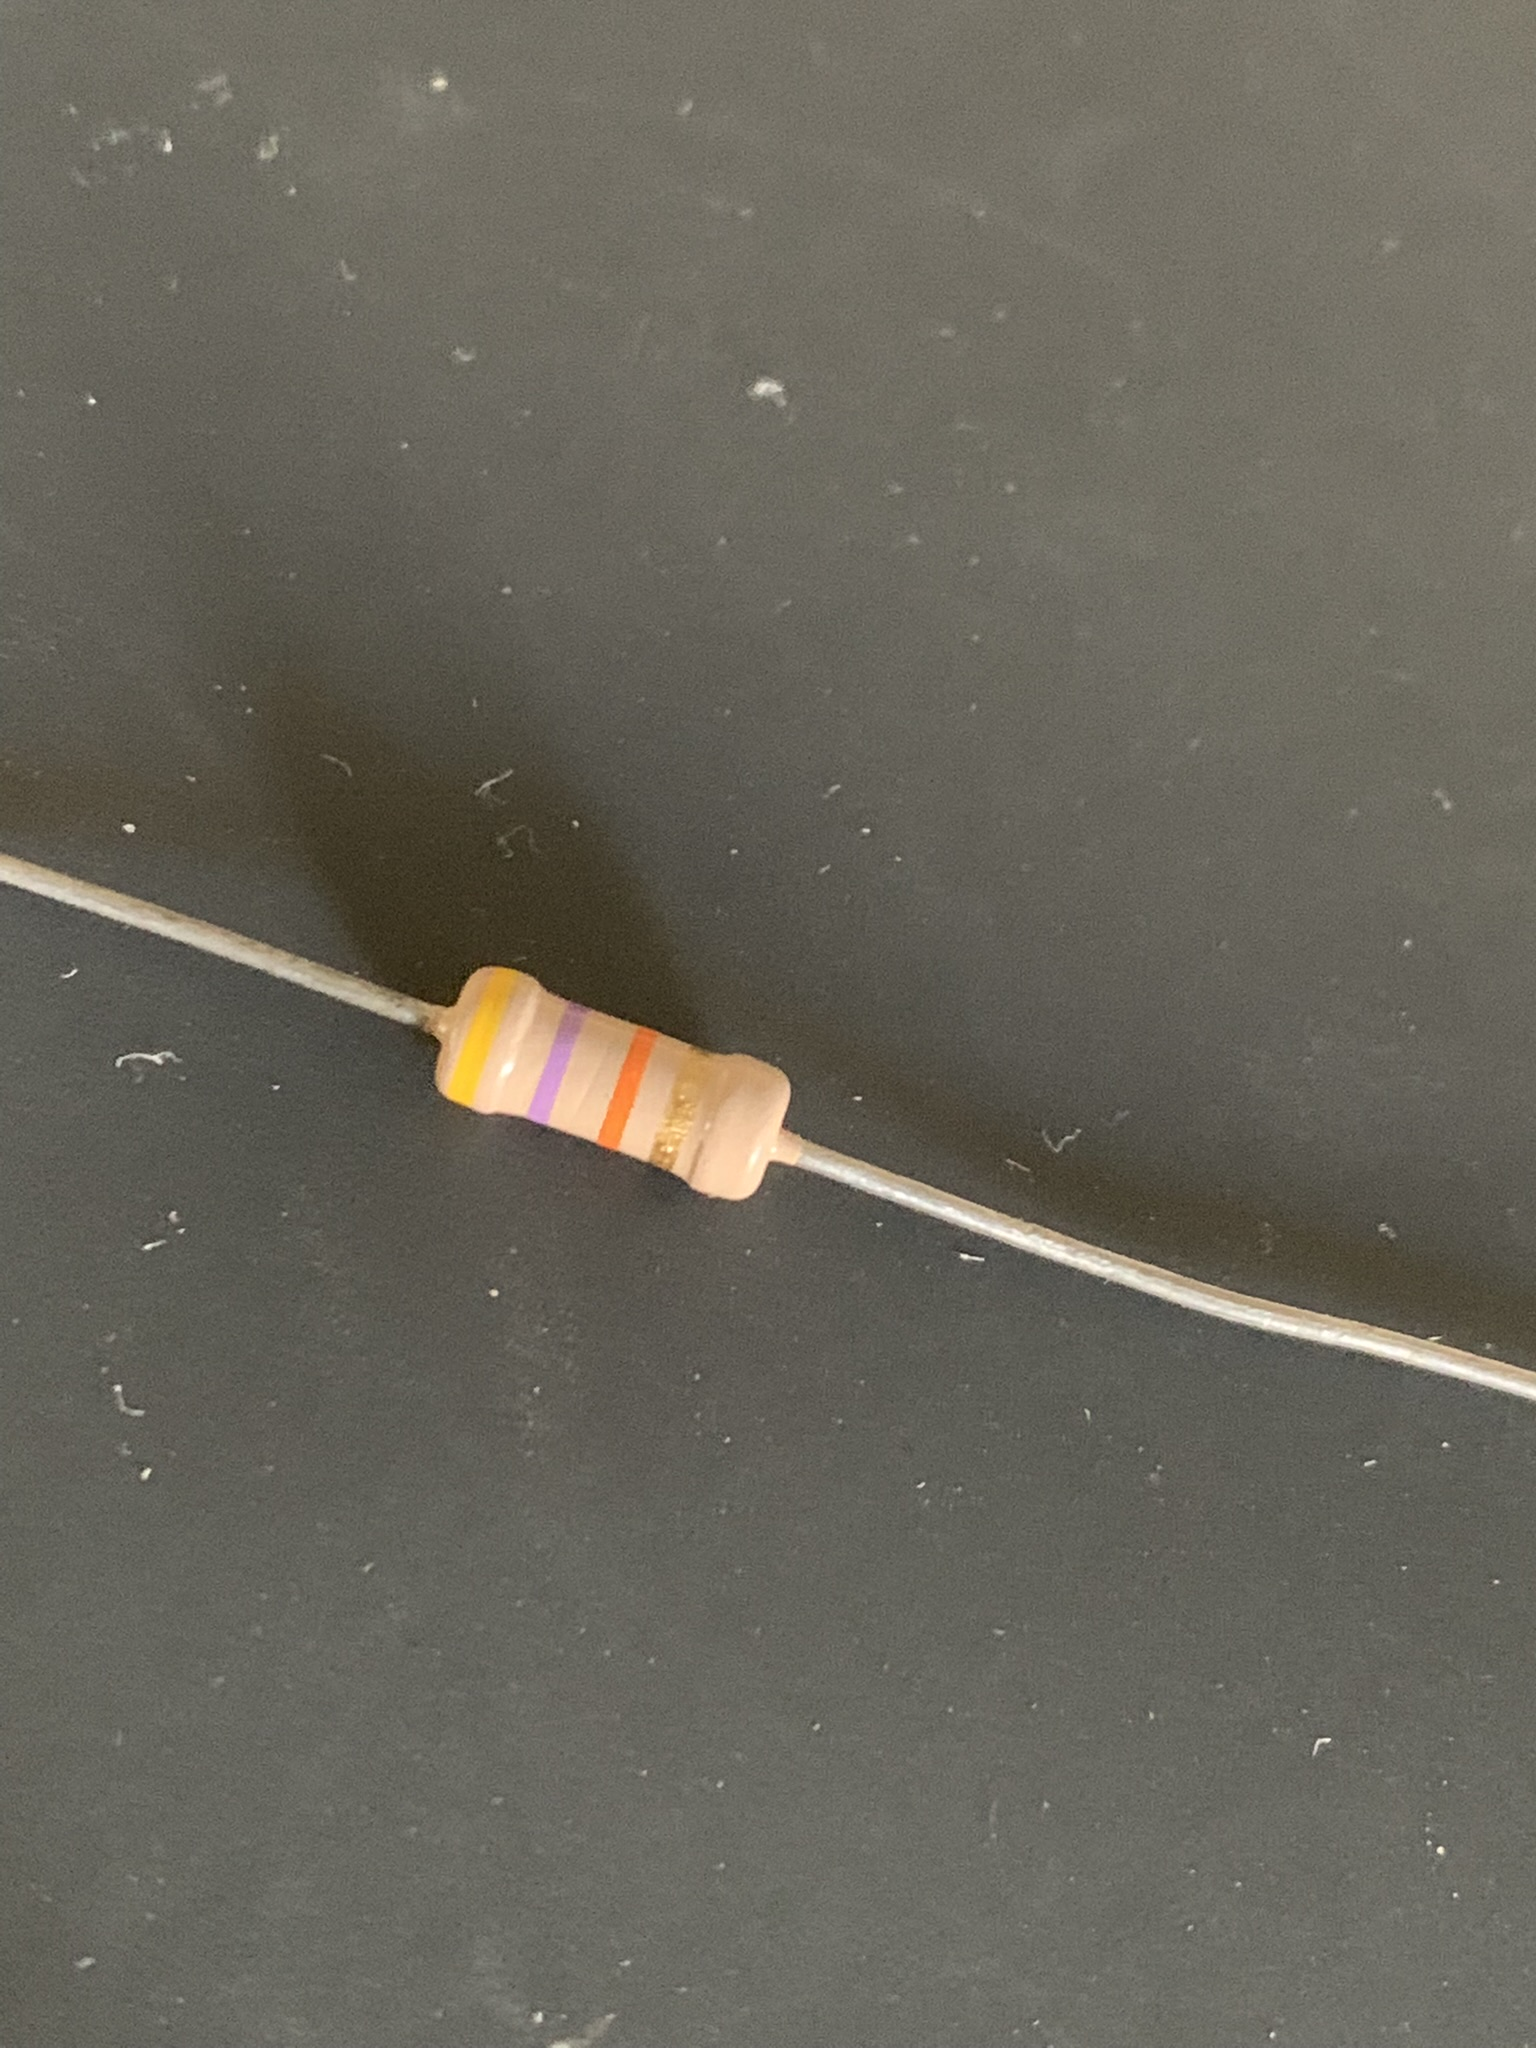resistor_thd: (432, 964, 792, 1205)
